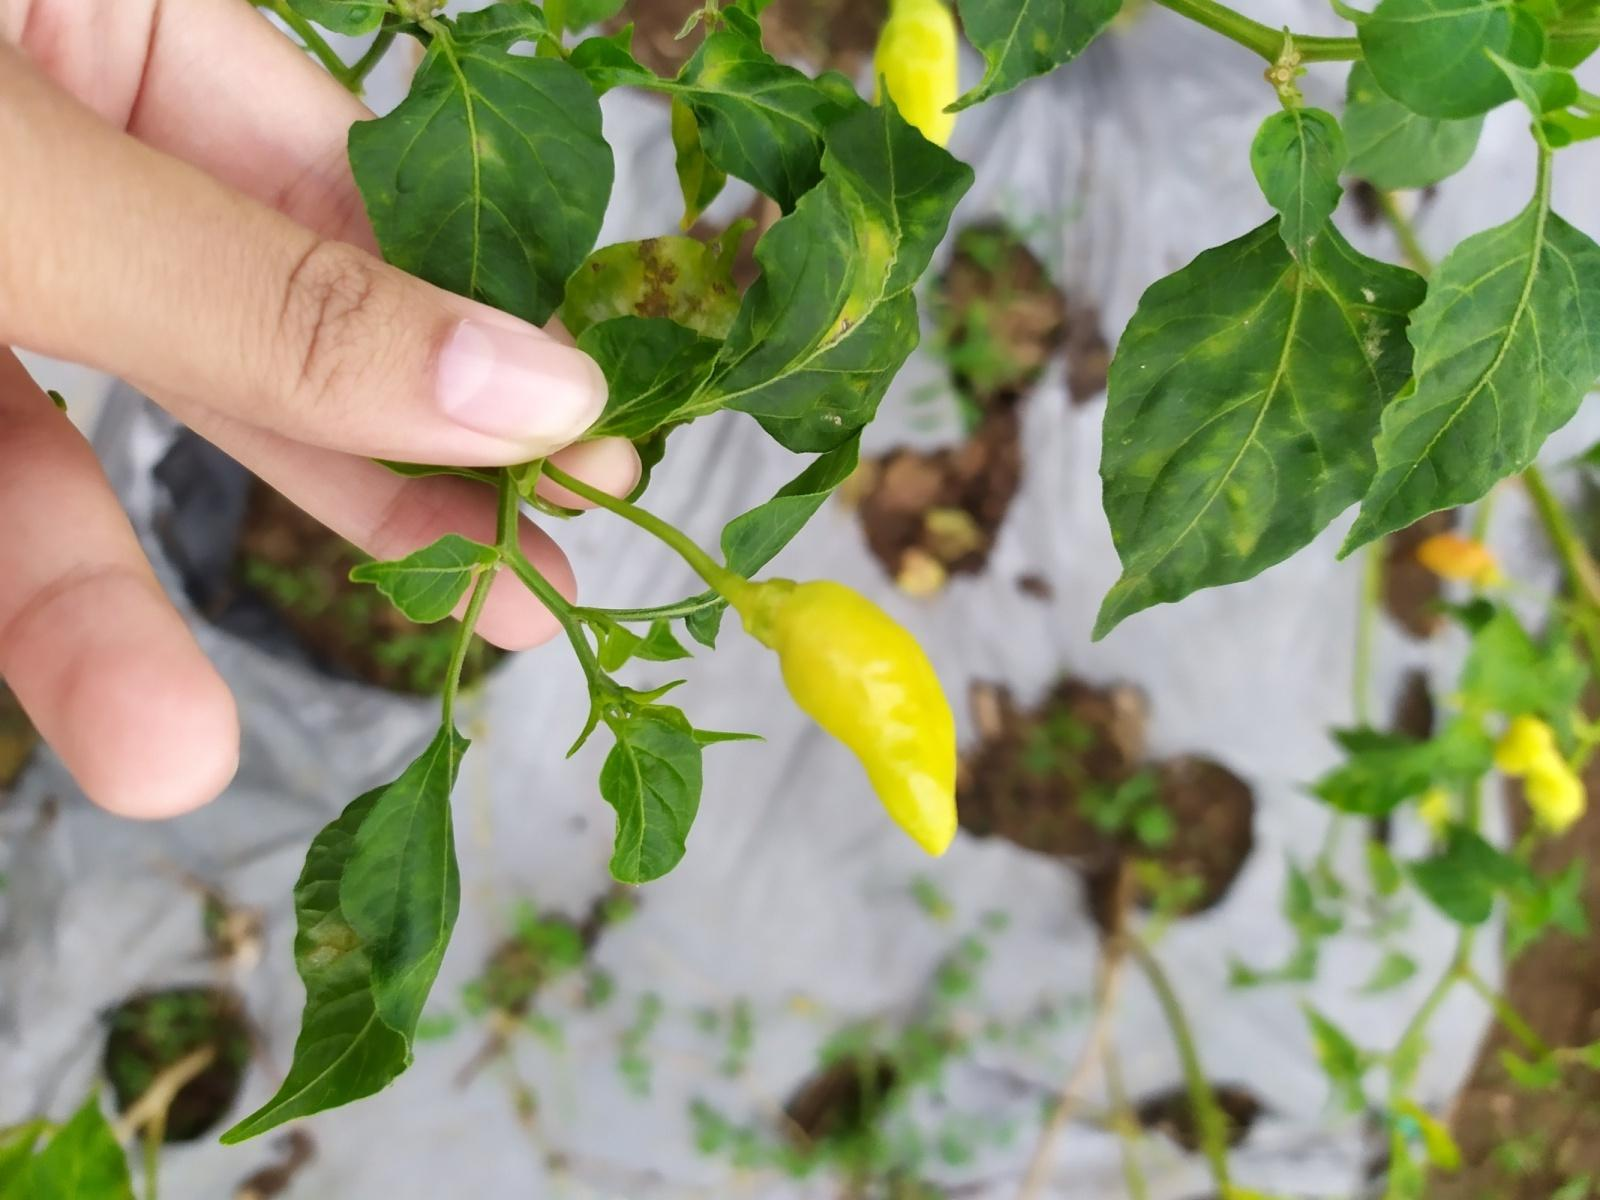cabai_normal: (738, 581, 959, 861), (877, 2, 963, 153)
